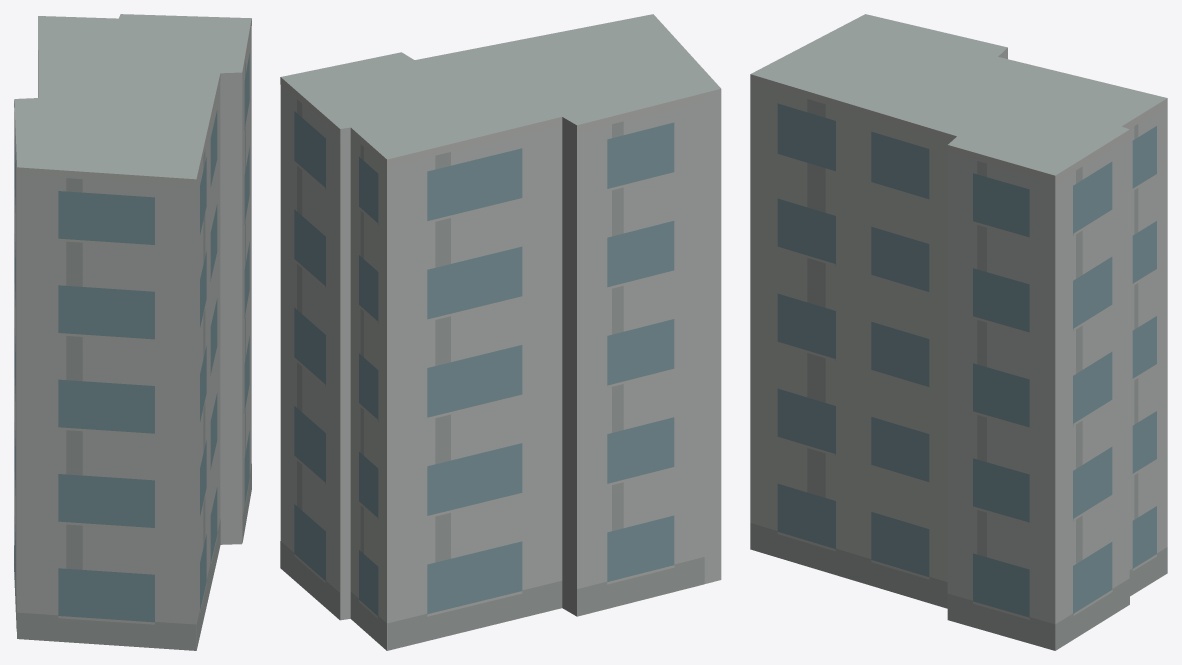
File: survey-upis-32479540.glb
3 renders of one model, left to right at view 1: azimuth 30°, elevation 25°; view 2: azimuth 150°, elevation 25°; view 3: azimuth 270°, elevation 25°, orthographic. The views are drawn at different scales.
Visible parts, largest first — view 1: survey-upis-32479540.tmp; view 2: survey-upis-32479540.tmp; view 3: survey-upis-32479540.tmp.
Boxes of the visible parts, <box> form: survey-upis-32479540.tmp: <box>14,14,251,650</box>; survey-upis-32479540.tmp: <box>280,14,721,650</box>; survey-upis-32479540.tmp: <box>750,14,1167,650</box>.
Size of the model in its own units: 11.13 by 15.25 by 12.15.
